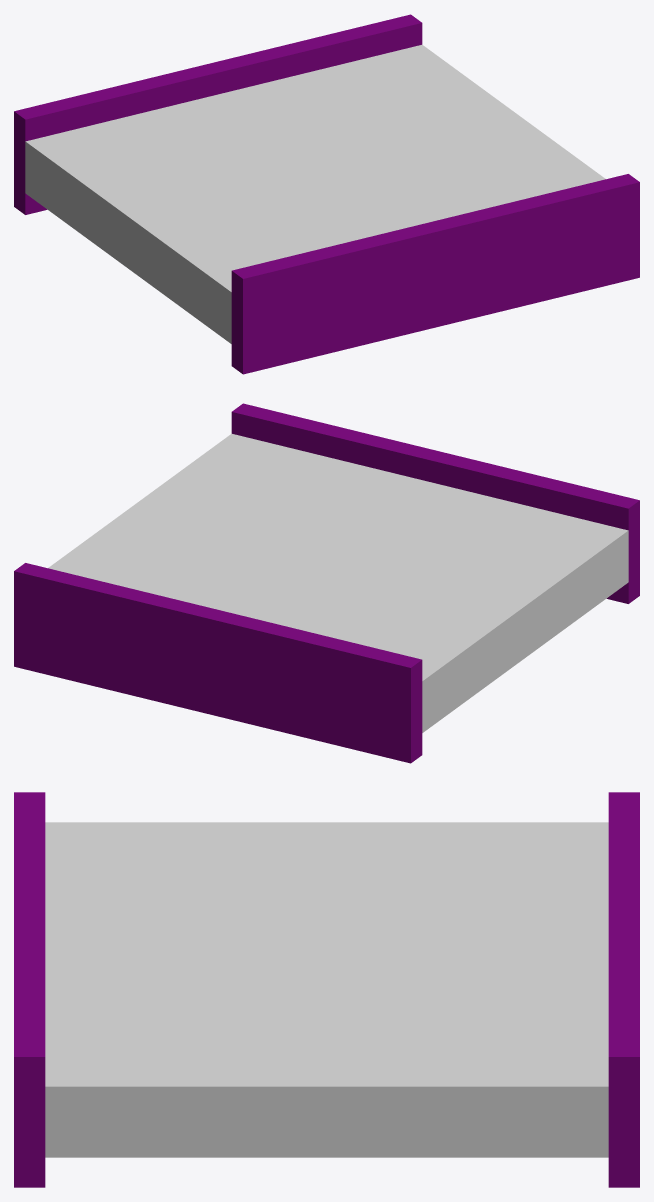
File: CUDN_Board.fbx
3 renders of one model, top to bottom at view 1: azimuth 30°, elevation 25°; view 2: azimuth 150°, elevation 25°; view 3: azimuth 270°, elevation 25°, orthographic. The views are drawn at different scales.
Visible parts, largest first — view 1: Board; view 2: Board; view 3: Board.
Boxes of the visible parts, <box> form: Board: <box>14,14,639,374</box>; Board: <box>14,403,639,763</box>; Board: <box>14,792,639,1187</box>.
Bounding box in the file's own units: 200 × 46 × 200.
